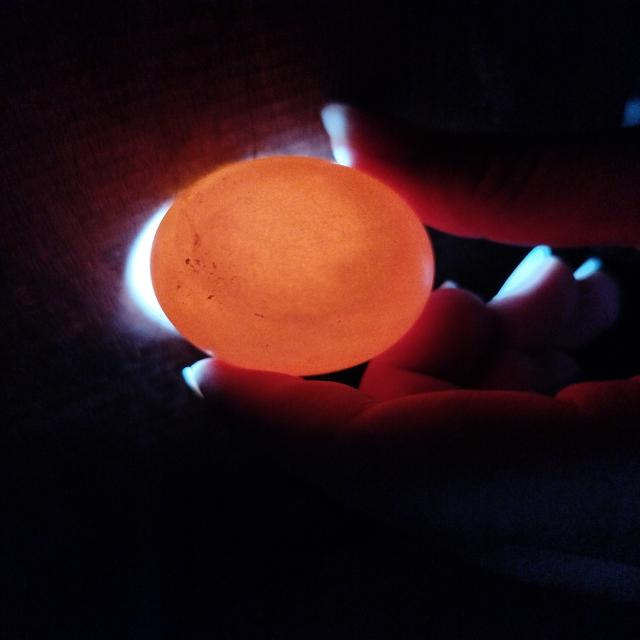Gema Quebrada: (151, 157, 434, 376)
